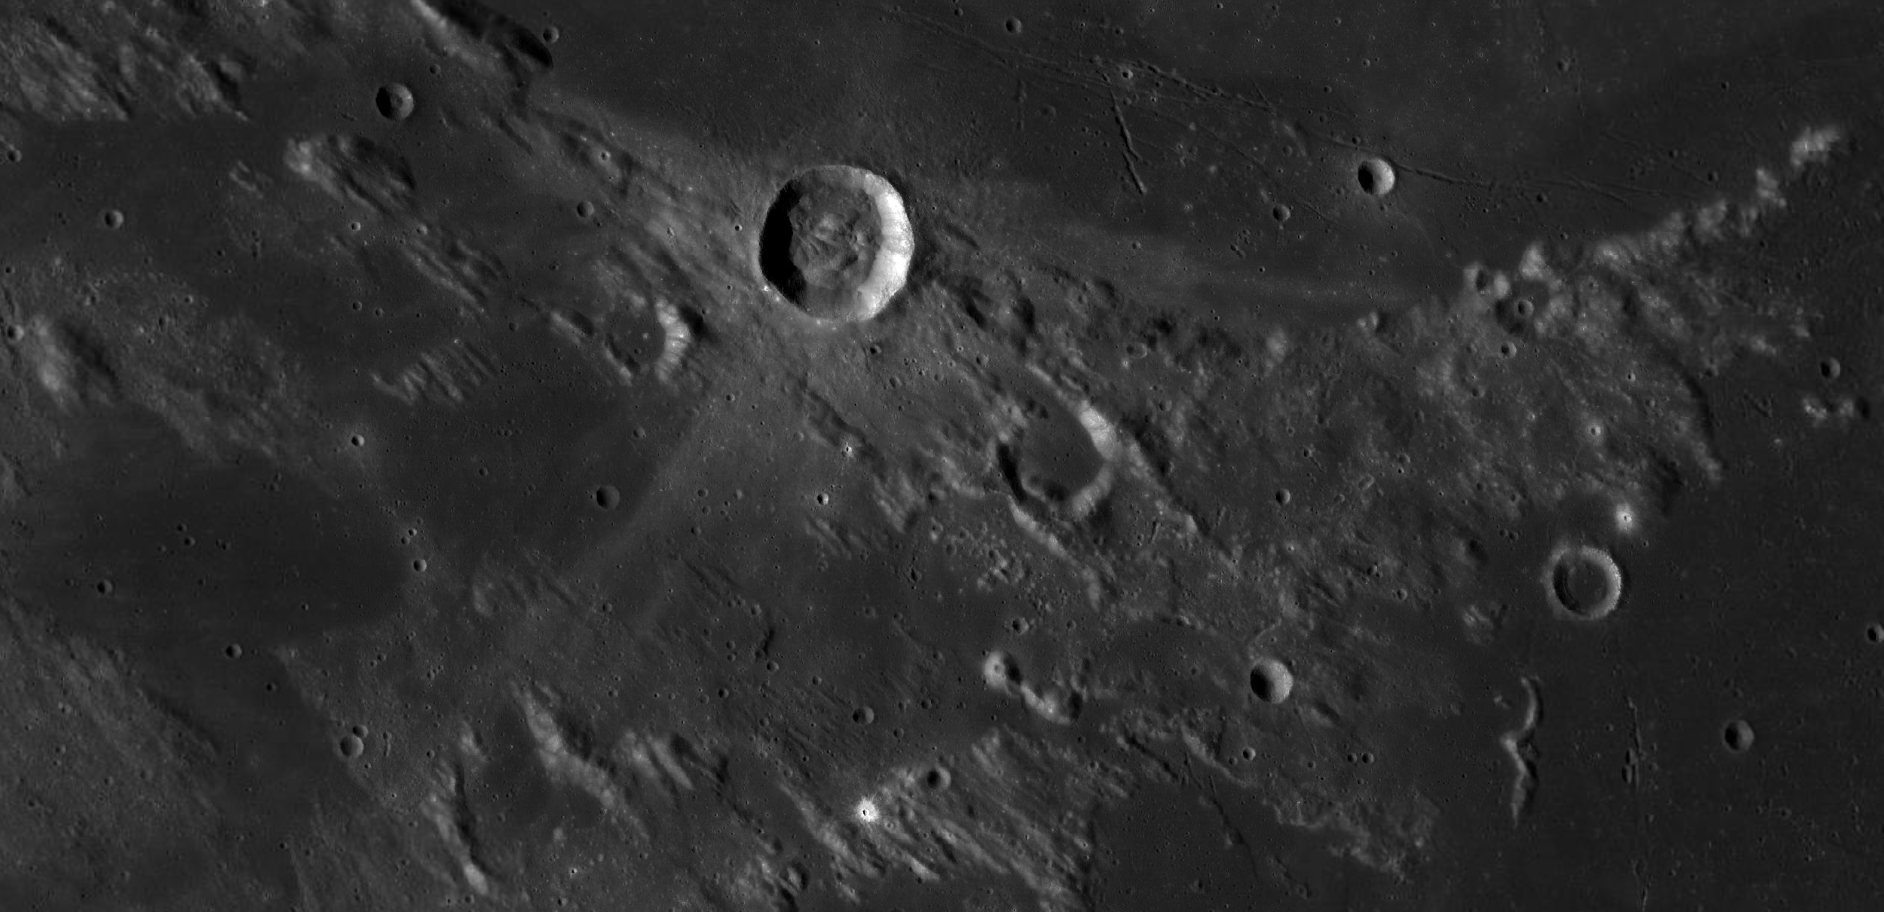crater: (731, 123, 991, 403), (1536, 532, 1646, 658), (1220, 628, 1345, 721), (1323, 135, 1445, 223), (565, 457, 649, 547), (1705, 695, 1777, 773), (324, 410, 395, 476), (362, 70, 425, 129), (461, 451, 508, 491)
